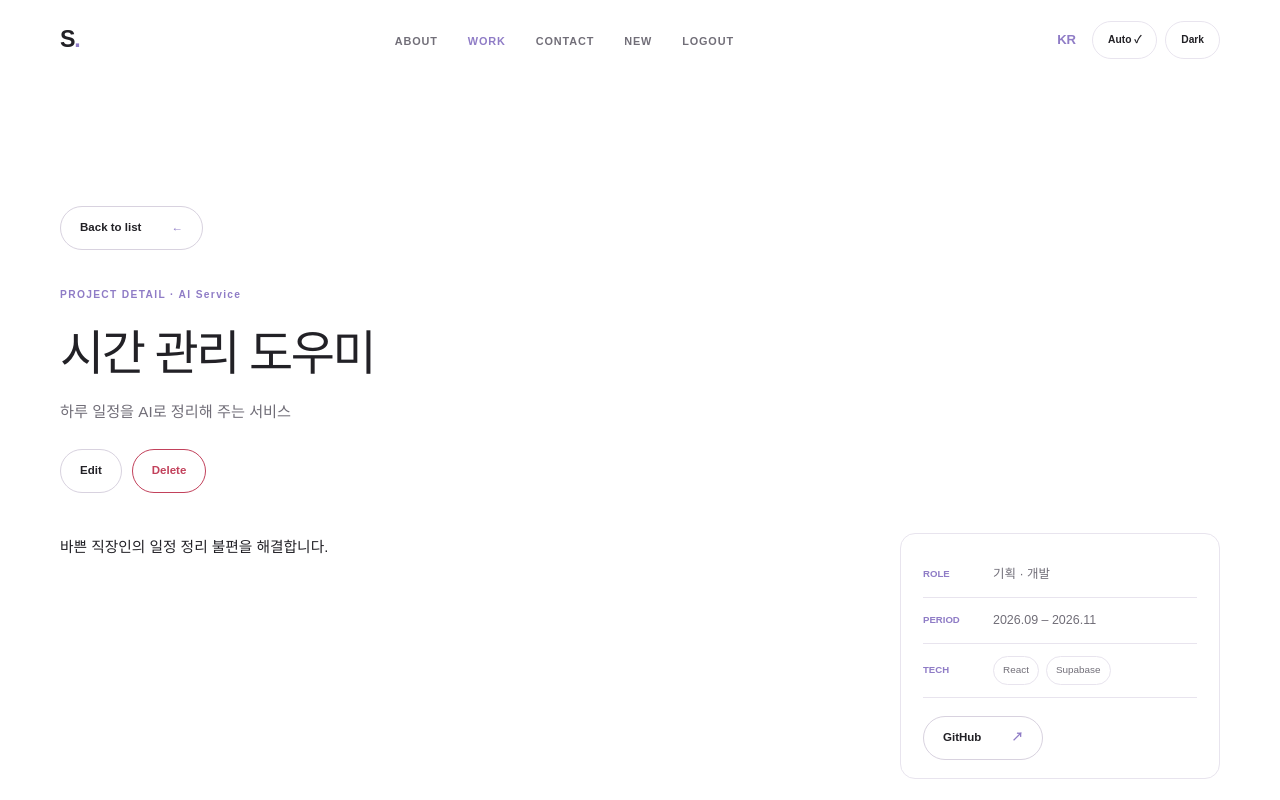
Test: 영어 모드의 공통 버튼 문구 › 삭제 확인 창의 취소 버튼도 영어로 바뀐다
Click the button "Delete" at x=169, y=471, box [132,449,206,493]
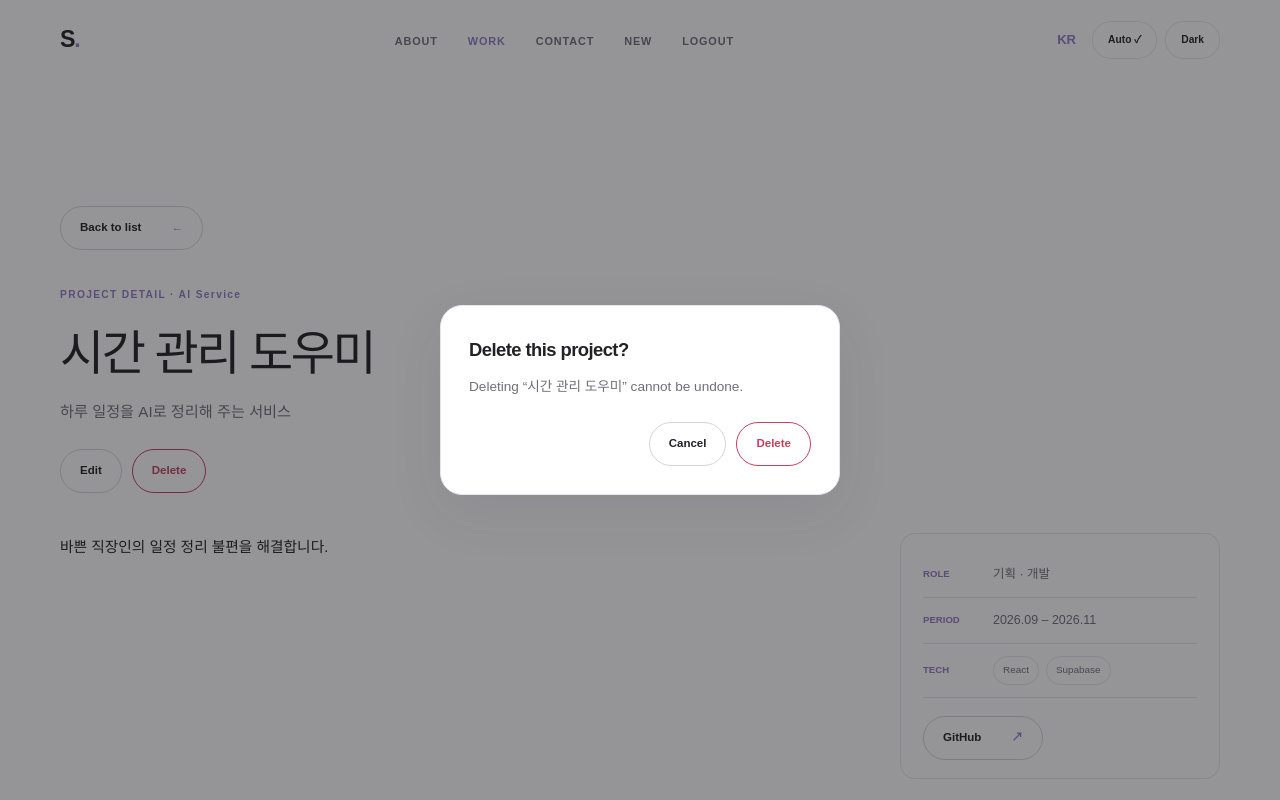
Now the button "Cancel" is shown, box [649,422,726,466]
